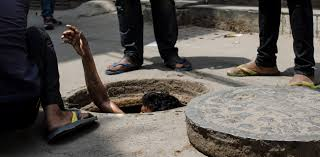Manhole-Open: (64, 67, 209, 119)
human: (1, 1, 94, 148), (62, 24, 179, 111), (227, 1, 320, 87), (97, 1, 212, 70)
